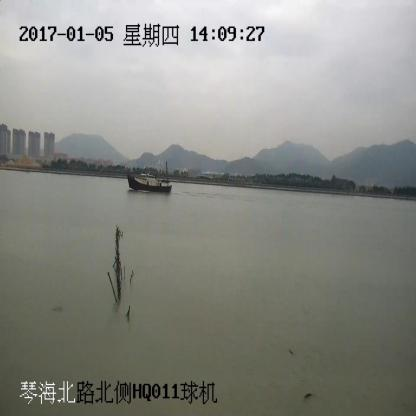Fishing Boat: (126, 156, 173, 192)
